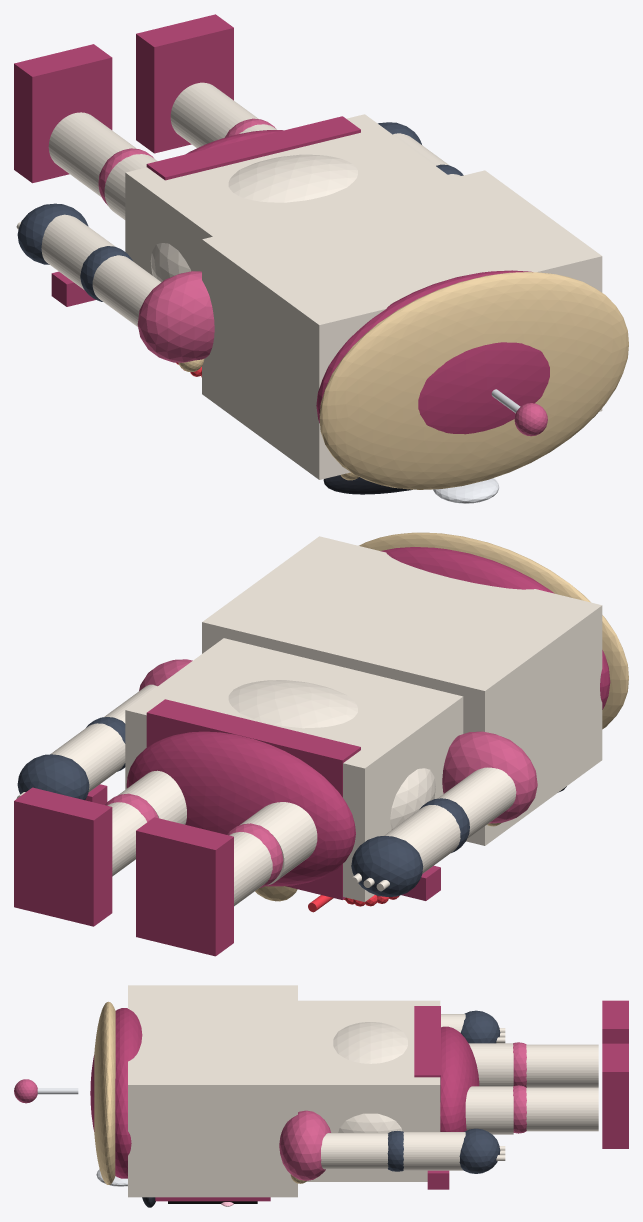
Rendered from robot.glb.
3 renders of one model, top to bottom at view 1: azimuth 30°, elevation 25°; view 2: azimuth 150°, elevation 25°; view 3: azimuth 270°, elevation 25°, orthographic. The views are drawn at different scales.
Visible parts, largest first — view 1: HeadShell, CapGoldCrown, TorsoBlock, CapWineTop, LeftFoot, RightFoot, TorsoBelly, LeftShoulderPad, WaistBand, LeftShin, RightShin, LeftUpperArm (+8 smaller); view 2: HeadShell, TorsoBlock, Pelvis, RightFoot, LeftFoot, WaistBand, TorsoBelly, CapGoldCrown, LeftShoulderPad, CapWineTop, LeftHand, LeftUpperArm (+11 smaller); view 3: HeadShell, TorsoBlock, CapGoldCrown, TorsoBelly, RightShin, LeftShin, CapWineTop, Pelvis, RightFoot, RightShoulderPad, RightUpperArm, RightForeArm (+13 smaller).
Boxes of the visible parts, x1,y1,x2,y2 form: HeadShell: (202,170,602,479); CapGoldCrown: (319,272,628,489); TorsoBlock: (125,114,451,275); CapWineTop: (316,270,549,434); LeftFoot: (14,44,112,183); RightFoot: (136,14,233,153); TorsoBelly: (150,154,357,282); LeftShoulderPad: (137,271,214,362); WaistBand: (146,116,360,180); LeftShin: (48,112,136,197); RightShin: (170,82,258,148); LeftUpperArm: (92,255,161,326); HeadShell: (202,536,602,845); TorsoBlock: (125,638,463,901); Pelvis: (126,731,355,886); RightFoot: (14,787,112,926); LeftFoot: (136,817,233,956); WaistBand: (146,699,360,899); TorsoBelly: (228,680,435,829); CapGoldCrown: (359,532,628,729); LeftShoulderPad: (442,731,537,823); CapWineTop: (380,547,610,709); LeftHand: (351,836,423,896); LeftUpperArm: (438,767,516,838); HeadShell: (128,985,297,1197); TorsoBlock: (298,1000,440,1181); CapGoldCrown: (94,1001,115,1184); TorsoBelly: (333,1022,407,1132); RightShin: (526,1087,598,1131); LeftShin: (526,1044,598,1087); CapWineTop: (90,1008,142,1178); Pelvis: (440,1026,479,1131); RightFoot: (602,1043,628,1148); RightShoulderPad: (279,1110,330,1180); RightUpperArm: (321,1133,388,1169); RightForeArm: (403,1132,465,1170).
Size of the model in its own units: 2.74 by 1.48 by 5.07.
